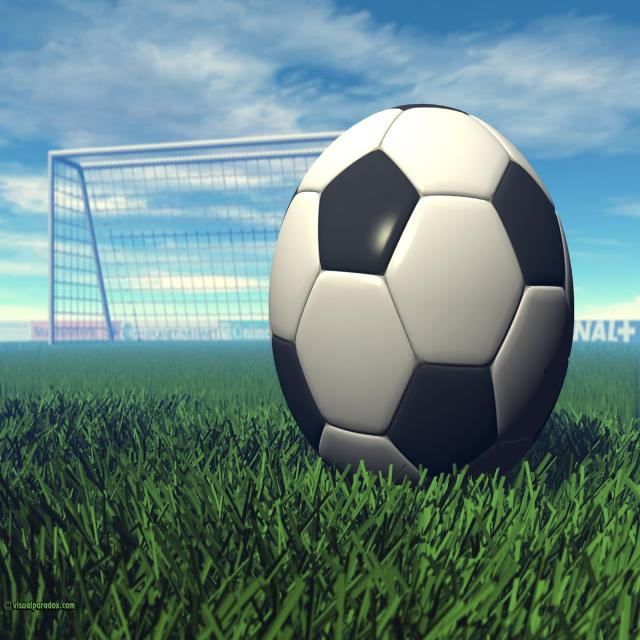soccer ball: (268, 103, 574, 496)
